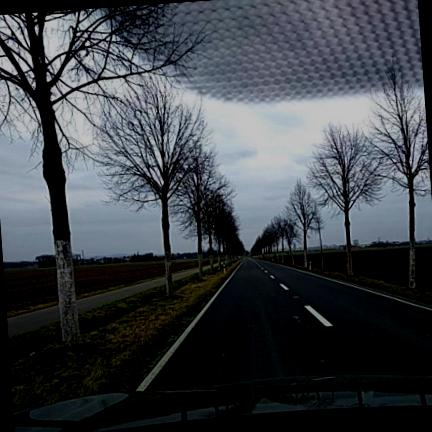Road: (146, 259, 431, 390), (76, 277, 164, 314)
